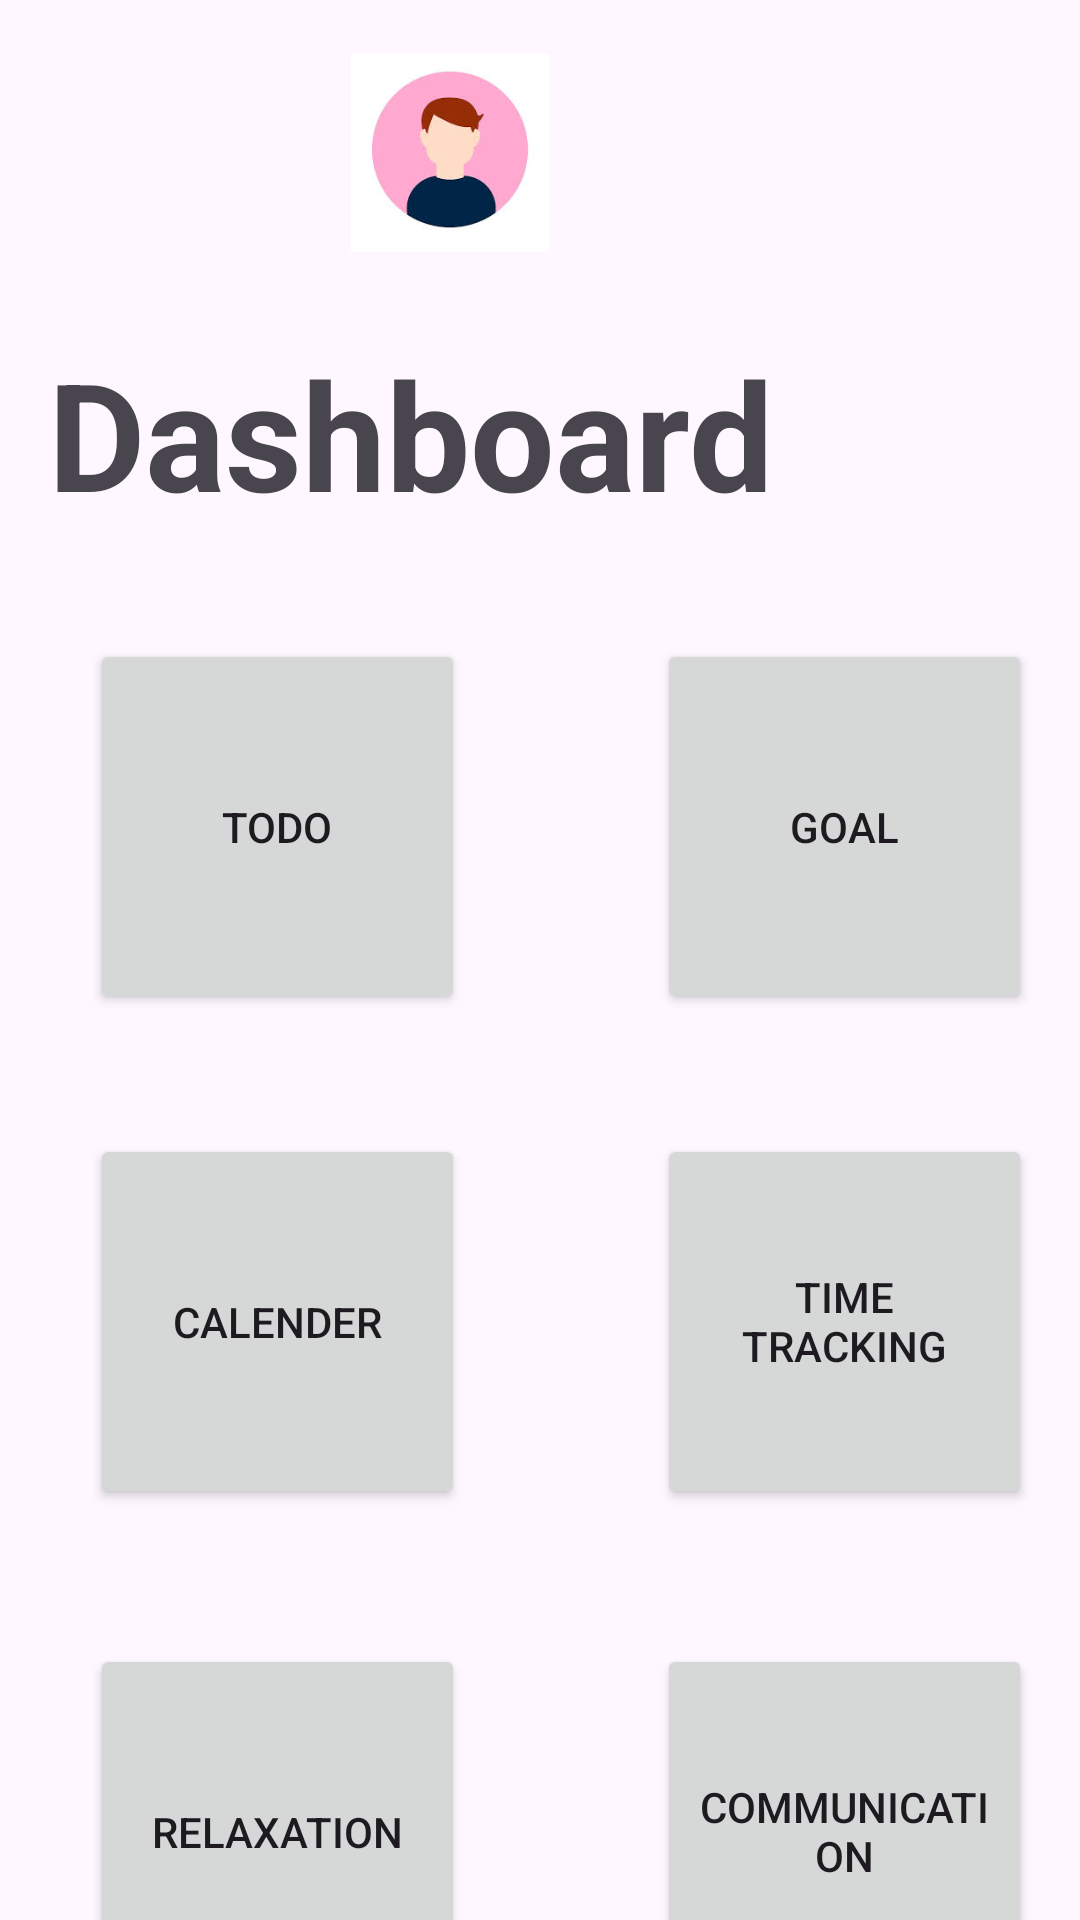

Screen size 1080 x 1920. Icon name, then its center in pixels as (x,y):
profile: (450,149)
